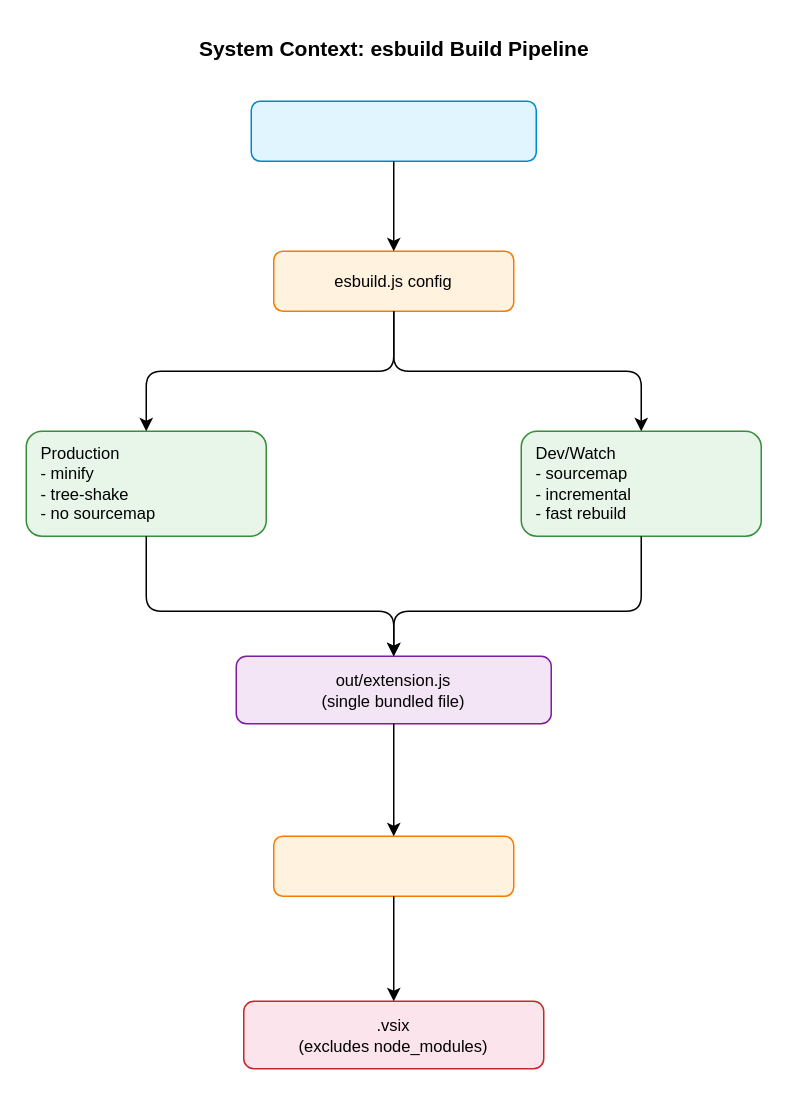
The diagram is 788 pixels wide and 1095 high, and some of its shapes have lost their labels. The centre of each missing label's shape, as x and y in pixels:
Developer Source (.ts): [393,130]
vsce package: [393,865]
